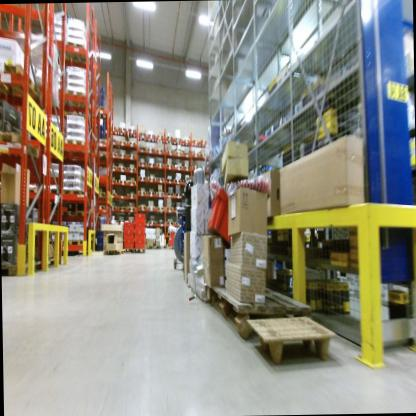pallet: (210, 276, 305, 341), (248, 306, 334, 373), (0, 58, 44, 108), (0, 126, 46, 165), (63, 39, 93, 70), (63, 131, 91, 155), (3, 257, 29, 282), (63, 88, 91, 108), (60, 182, 85, 201), (61, 236, 85, 251), (95, 104, 111, 125), (63, 209, 96, 219), (40, 184, 60, 198), (101, 245, 128, 255), (121, 247, 145, 257), (24, 182, 38, 196), (156, 174, 173, 184), (128, 125, 138, 139), (138, 129, 148, 143), (126, 151, 138, 162), (117, 125, 128, 137), (155, 131, 165, 144), (145, 244, 163, 251), (136, 143, 147, 154), (111, 137, 119, 151), (111, 123, 119, 137), (191, 134, 198, 150), (97, 202, 108, 212), (164, 160, 174, 171), (127, 139, 138, 149), (173, 134, 183, 145), (198, 138, 208, 149), (173, 147, 183, 158), (126, 164, 138, 173), (119, 139, 128, 151), (147, 131, 156, 143), (154, 147, 166, 156), (118, 151, 127, 162), (182, 177, 191, 187), (138, 160, 147, 170), (109, 164, 118, 174), (110, 151, 119, 161), (173, 163, 184, 171), (173, 190, 183, 198), (137, 174, 147, 182), (147, 160, 155, 170), (192, 150, 200, 160), (183, 135, 190, 146), (166, 190, 174, 199), (147, 190, 156, 198), (118, 176, 127, 184), (173, 176, 182, 184), (181, 164, 190, 172), (191, 163, 199, 172), (117, 165, 126, 173), (199, 151, 208, 159), (183, 149, 191, 158), (127, 191, 137, 198), (146, 175, 156, 182), (166, 135, 173, 145), (97, 194, 108, 200), (147, 146, 155, 154), (97, 189, 106, 196), (126, 205, 136, 211), (155, 204, 165, 210), (146, 219, 156, 225), (165, 231, 175, 237), (165, 204, 173, 211), (156, 190, 164, 197), (156, 161, 164, 168), (136, 190, 147, 195), (156, 219, 165, 225), (173, 218, 179, 227), (117, 205, 127, 210), (146, 205, 156, 210), (164, 220, 174, 225), (111, 191, 118, 198), (166, 147, 173, 154), (109, 205, 117, 211), (174, 206, 182, 212), (127, 178, 135, 184), (138, 203, 146, 208), (111, 178, 117, 184)
small_load_carrier: (205, 181, 245, 247), (133, 221, 148, 232), (132, 211, 147, 221), (120, 230, 136, 239), (134, 230, 148, 240), (120, 239, 133, 248), (123, 220, 136, 229), (133, 240, 145, 249), (165, 237, 175, 247), (169, 229, 175, 239)
